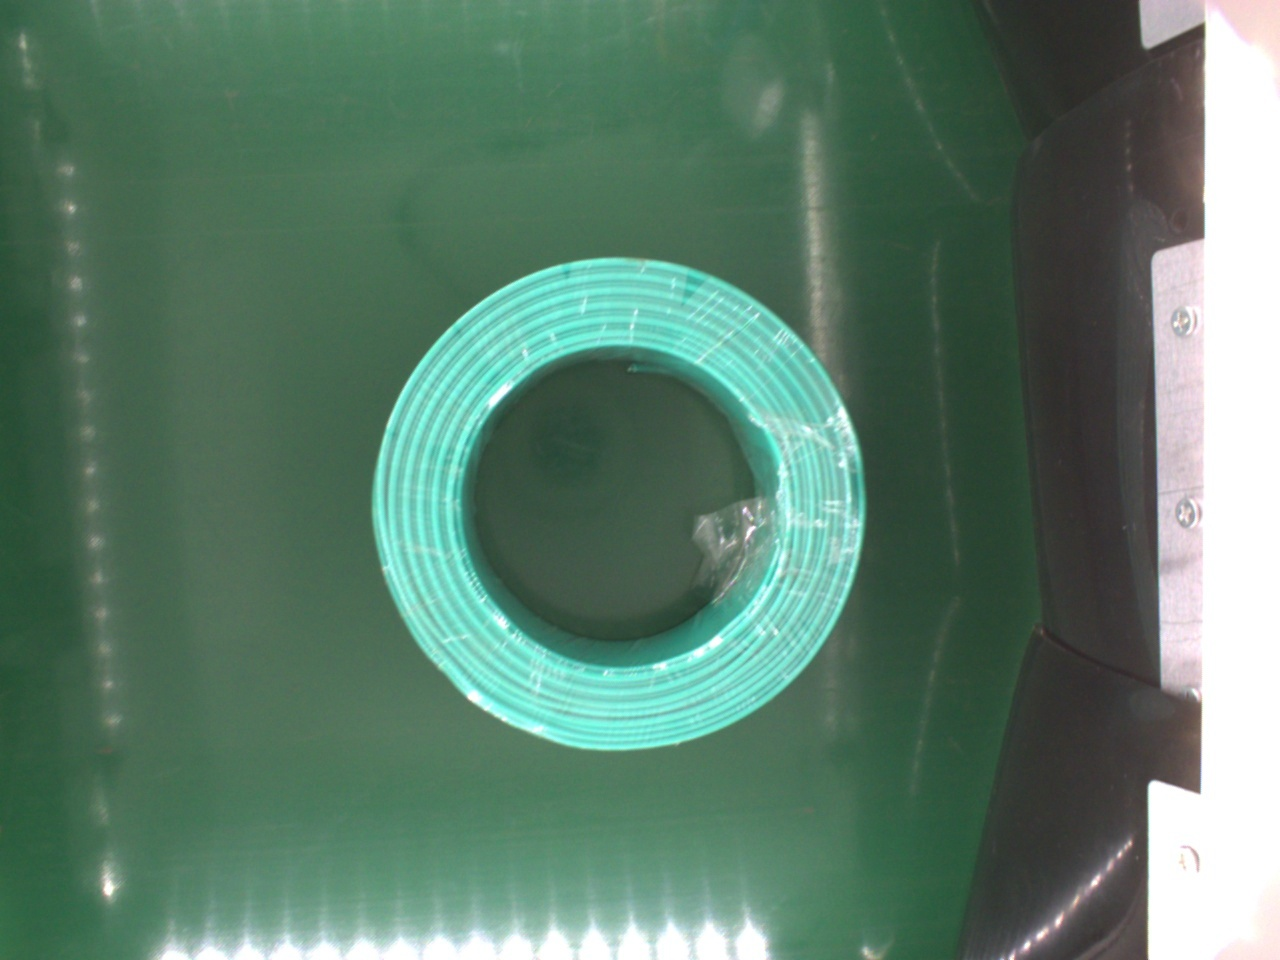green: (371, 254, 868, 756)
